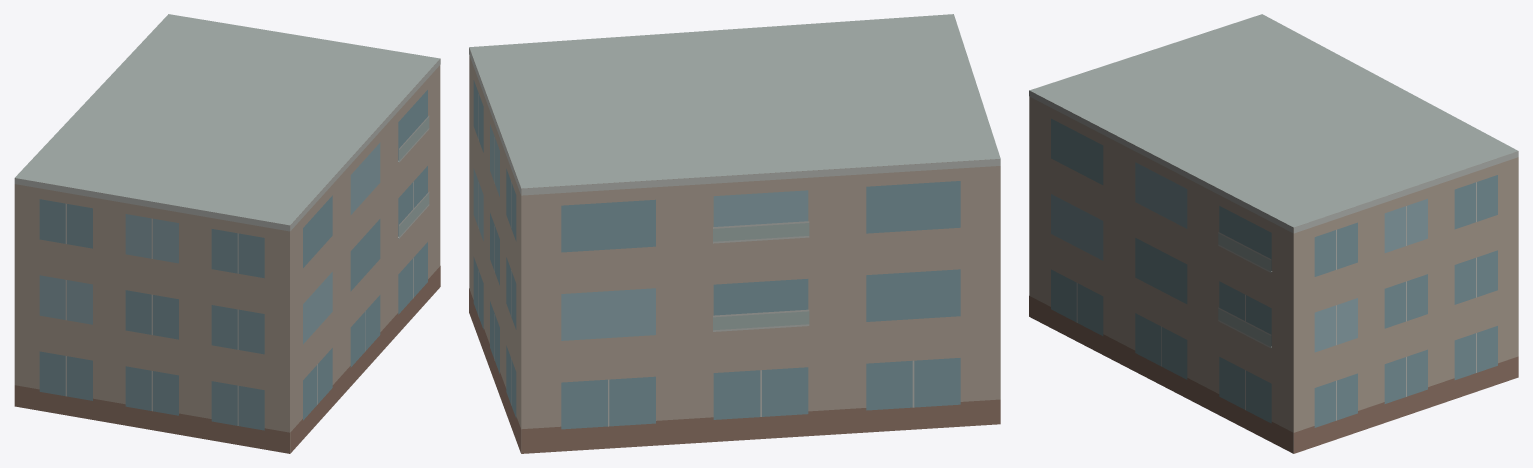
The model's file is survey-upis-32913184.glb.
The picture shows the model from 3 angles, left to right: view 1: azimuth 30°, elevation 25°; view 2: azimuth 150°, elevation 25°; view 3: azimuth 270°, elevation 25°; orthographic projection. The views are drawn at different scales.
Visible parts, largest first — view 1: survey-upis-32913184.tmp; view 2: survey-upis-32913184.tmp; view 3: survey-upis-32913184.tmp.
Boxes of the visible parts, left/top/right/bottom form: survey-upis-32913184.tmp: left=14, top=14, right=440, bottom=453; survey-upis-32913184.tmp: left=469, top=14, right=1000, bottom=453; survey-upis-32913184.tmp: left=1029, top=14, right=1518, bottom=453.
Size of the model in its own units: 18.52 by 9.15 by 17.94.
